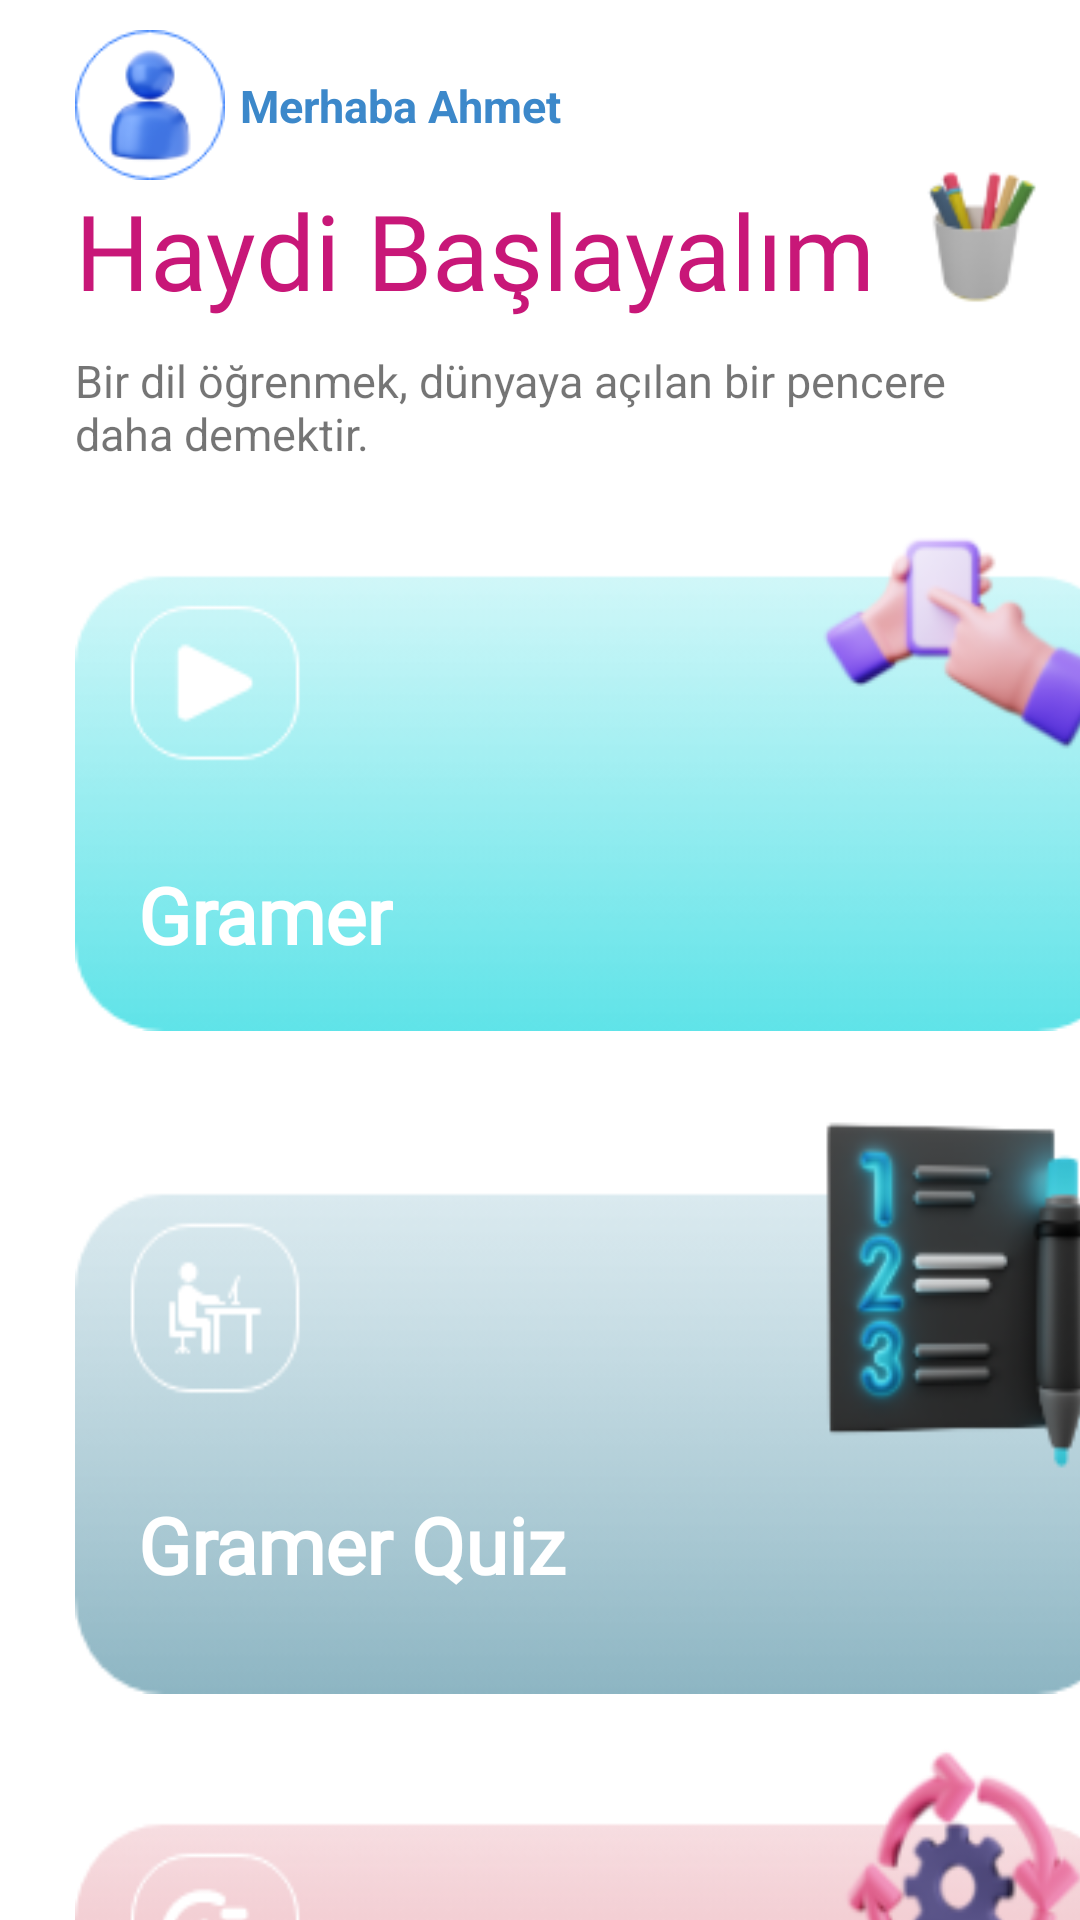

Point at icon controls on the screen. Image size 1080px x 1920px, points as [x,y].
person: [150,105]
